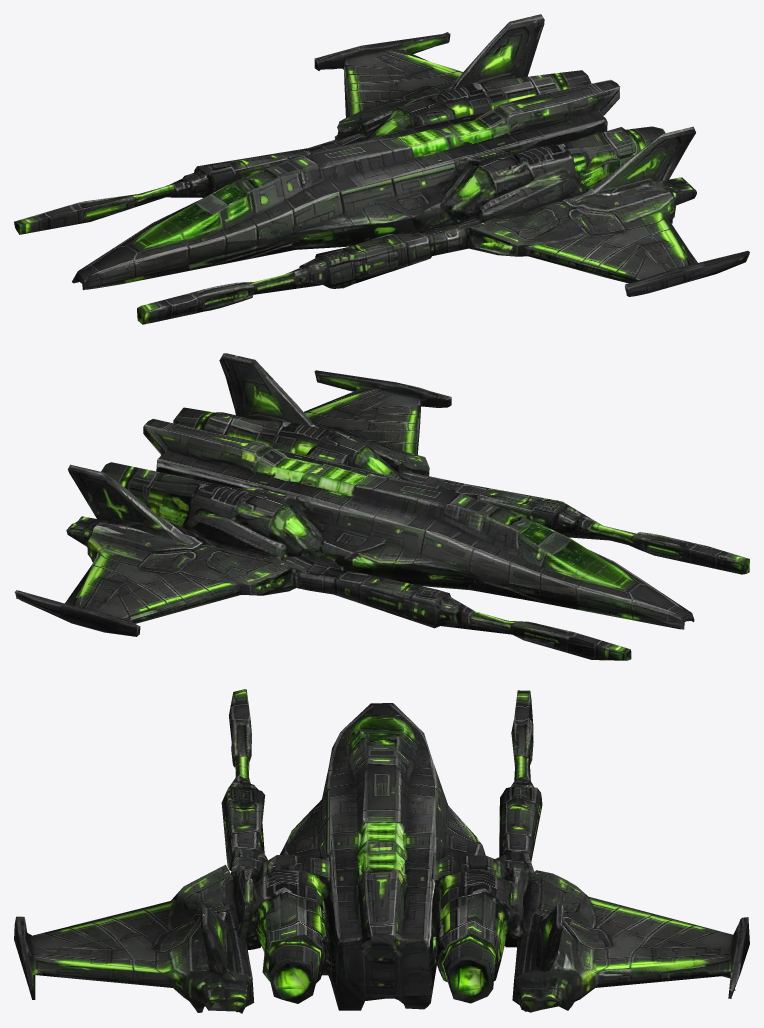
Rendered from ship5.glb.
3 renders of one model, top to bottom at view 1: azimuth 30°, elevation 25°; view 2: azimuth 150°, elevation 25°; view 3: azimuth 270°, elevation 25°, orthographic. The views are drawn at different scales.
Visible parts, largest first — view 1: Mesh0; view 2: Mesh0; view 3: Mesh0.
Part boxes in pixels (x1=…): Mesh0: x1=14, y1=14, x2=749, y2=324; Mesh0: x1=14, y1=353, x2=749, y2=660; Mesh0: x1=14, y1=689, x2=749, y2=1013.
Bounding box in the file's own units: 1.9 × 0.3101 × 1.9.
Materials: 1 (1 with a texture image).
